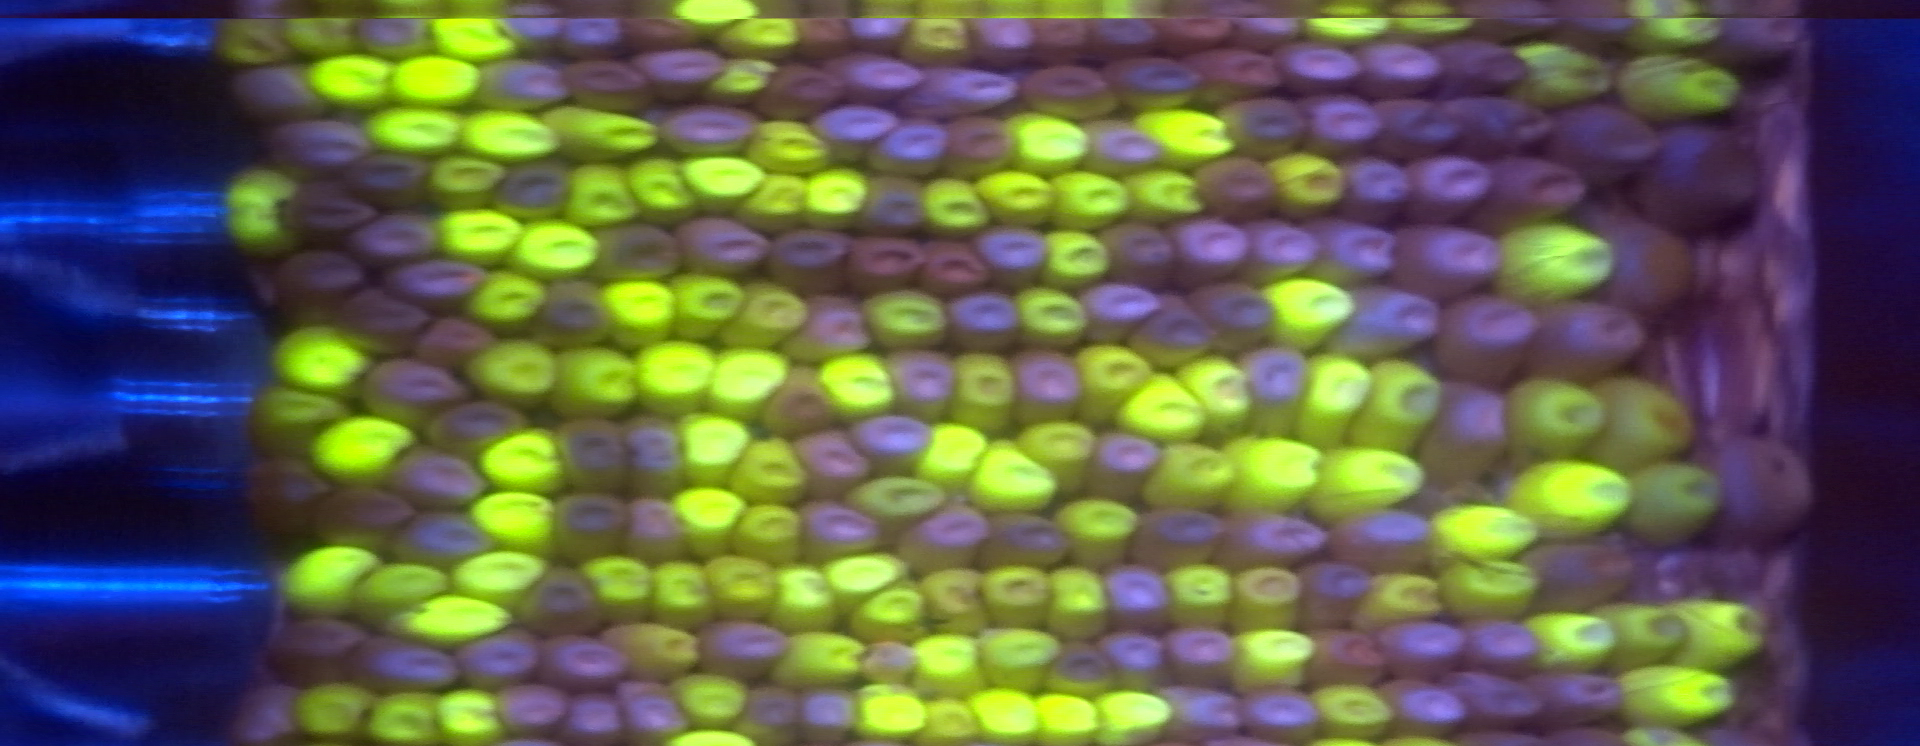fluorescent: (1488, 461, 1637, 538), (1615, 47, 1746, 122), (1594, 372, 1702, 464), (1493, 223, 1613, 298), (1496, 376, 1614, 452), (306, 414, 429, 485), (1212, 432, 1326, 507), (1310, 443, 1431, 511), (1626, 463, 1727, 540), (1259, 274, 1365, 345), (392, 589, 525, 646), (1367, 355, 1440, 457), (272, 326, 378, 394), (1620, 668, 1736, 730), (351, 559, 462, 624), (538, 100, 664, 156), (1296, 355, 1371, 445), (1680, 597, 1772, 670), (1600, 601, 1695, 671), (1526, 608, 1625, 674), (1425, 503, 1544, 559), (251, 386, 353, 450), (969, 435, 1056, 508), (708, 285, 811, 347), (220, 167, 294, 252), (467, 339, 561, 405), (1512, 44, 1611, 107), (947, 345, 1021, 428), (816, 345, 898, 420), (287, 682, 386, 744), (704, 345, 793, 412), (276, 548, 373, 608), (444, 548, 553, 601), (1122, 376, 1209, 443), (366, 102, 469, 158), (551, 349, 642, 413), (664, 269, 744, 341), (476, 488, 564, 552), (1353, 571, 1458, 625), (306, 55, 411, 109), (1446, 556, 1547, 612), (923, 566, 1004, 636), (862, 292, 958, 350), (1176, 361, 1259, 429), (673, 488, 748, 562), (1073, 342, 1147, 416), (829, 552, 916, 616), (636, 342, 711, 414), (601, 278, 680, 348), (729, 442, 809, 510), (609, 622, 707, 677), (1142, 108, 1238, 164), (1042, 171, 1131, 232), (475, 432, 569, 489), (467, 273, 555, 333), (1021, 421, 1101, 488), (516, 216, 604, 274), (462, 107, 557, 160), (980, 628, 1062, 691), (1146, 446, 1237, 502), (676, 412, 748, 481), (1125, 167, 1211, 225), (441, 206, 527, 265), (1627, 1, 1720, 55), (1004, 115, 1092, 171), (981, 563, 1057, 628), (569, 165, 647, 229), (391, 55, 481, 109), (426, 6, 518, 59), (1264, 156, 1346, 214), (779, 635, 868, 688), (647, 556, 718, 624), (1091, 690, 1176, 746), (1052, 492, 1140, 546), (707, 552, 778, 619), (427, 151, 507, 209), (849, 477, 951, 522), (969, 686, 1049, 744), (1234, 628, 1311, 688), (680, 156, 765, 209), (1164, 562, 1237, 626), (969, 170, 1056, 223), (1035, 232, 1111, 292), (913, 178, 994, 234), (920, 425, 986, 494), (1029, 691, 1111, 746), (436, 684, 508, 746), (369, 688, 447, 746), (742, 167, 816, 228), (590, 551, 658, 617), (856, 586, 936, 641), (1014, 288, 1086, 348), (212, 20, 294, 72), (795, 168, 871, 224), (1308, 687, 1397, 735), (629, 159, 696, 223), (715, 16, 809, 60), (913, 636, 984, 693), (733, 505, 804, 562), (1049, 567, 1111, 633), (1232, 570, 1307, 624), (675, 676, 753, 726), (770, 562, 829, 628), (748, 122, 827, 171), (853, 685, 924, 737), (1296, 1, 1400, 36), (916, 696, 984, 746), (902, 17, 976, 62), (709, 62, 776, 108), (291, 16, 358, 61), (1386, 1, 1472, 36), (670, 1, 765, 21), (669, 728, 753, 746)
nonfluorescent: (1640, 122, 1762, 230), (1651, 314, 1753, 430), (1599, 207, 1703, 314), (1714, 436, 1815, 541), (1539, 103, 1663, 187), (1531, 303, 1656, 372), (1417, 381, 1507, 477), (1434, 298, 1543, 375), (1332, 282, 1446, 352), (1393, 220, 1499, 293), (364, 352, 473, 421), (272, 616, 377, 687), (1218, 511, 1340, 571), (1522, 544, 1632, 609), (353, 628, 460, 695), (553, 410, 639, 492), (396, 443, 500, 510), (372, 261, 502, 314), (280, 250, 378, 317), (1162, 209, 1249, 284), (1149, 676, 1244, 742), (266, 116, 373, 174), (1303, 214, 1403, 276), (1403, 156, 1498, 220), (1336, 511, 1440, 570), (1451, 96, 1550, 157), (1371, 96, 1474, 154), (316, 479, 413, 541), (1717, 7, 1801, 78), (345, 151, 447, 209), (1337, 149, 1419, 222), (1487, 157, 1583, 218), (1129, 507, 1233, 563), (454, 626, 544, 691), (229, 65, 332, 121), (336, 288, 436, 345), (519, 563, 605, 631), (429, 392, 530, 448), (339, 202, 433, 262), (249, 461, 329, 530), (1100, 51, 1201, 107), (593, 225, 686, 285), (901, 64, 1015, 113), (289, 183, 386, 240), (491, 157, 577, 222), (404, 317, 512, 369), (887, 343, 956, 421), (623, 407, 687, 492), (538, 628, 632, 685), (791, 293, 874, 356), (393, 508, 493, 561), (682, 216, 774, 273), (898, 501, 987, 560), (984, 511, 1074, 570), (866, 114, 951, 175), (1431, 37, 1528, 91), (1451, 669, 1540, 726), (1221, 96, 1307, 156), (1029, 62, 1122, 118), (1138, 299, 1220, 361), (1101, 220, 1178, 287), (699, 619, 793, 673), (1184, 47, 1284, 97), (1104, 560, 1179, 627), (760, 365, 836, 431), (767, 230, 853, 288), (781, 431, 869, 488), (560, 58, 658, 108), (1378, 624, 1471, 676), (1529, 673, 1620, 726), (1294, 96, 1382, 151), (227, 686, 307, 746), (1243, 218, 1318, 283), (1358, 38, 1450, 91), (531, 279, 607, 343), (1308, 627, 1393, 684), (662, 104, 758, 154), (1074, 278, 1153, 338), (796, 495, 879, 551), (1079, 120, 1167, 173), (1379, 677, 1464, 731), (1200, 282, 1275, 343), (1156, 622, 1237, 679), (1296, 556, 1368, 619), (833, 50, 922, 100), (1202, 159, 1282, 216), (1018, 352, 1087, 415), (613, 677, 684, 740), (1093, 426, 1153, 500), (1275, 43, 1367, 91), (637, 51, 733, 97), (482, 58, 572, 107), (762, 62, 846, 114), (1097, 630, 1171, 688), (1234, 345, 1309, 403), (948, 115, 1018, 176), (944, 285, 1014, 347), (853, 416, 936, 468), (823, 99, 898, 156), (860, 176, 929, 236), (1033, 6, 1101, 67), (980, 225, 1049, 284), (849, 236, 924, 290), (1244, 682, 1318, 737), (556, 690, 629, 745), (489, 682, 567, 734), (1464, 624, 1550, 670), (624, 496, 683, 563), (557, 491, 623, 550), (1466, 1, 1551, 47), (1157, 2, 1242, 48), (920, 236, 989, 289), (353, 13, 437, 56), (970, 12, 1038, 65), (1047, 639, 1113, 692), (791, 685, 853, 739), (1229, 1, 1302, 45), (1093, 11, 1163, 56), (737, 686, 798, 737), (860, 635, 921, 685), (613, 12, 698, 47), (497, 13, 574, 50), (793, 10, 853, 56), (556, 11, 629, 49), (1554, 6, 1629, 43), (845, 9, 909, 43), (247, 254, 287, 306), (1452, 728, 1562, 746), (1544, 725, 1630, 746)
